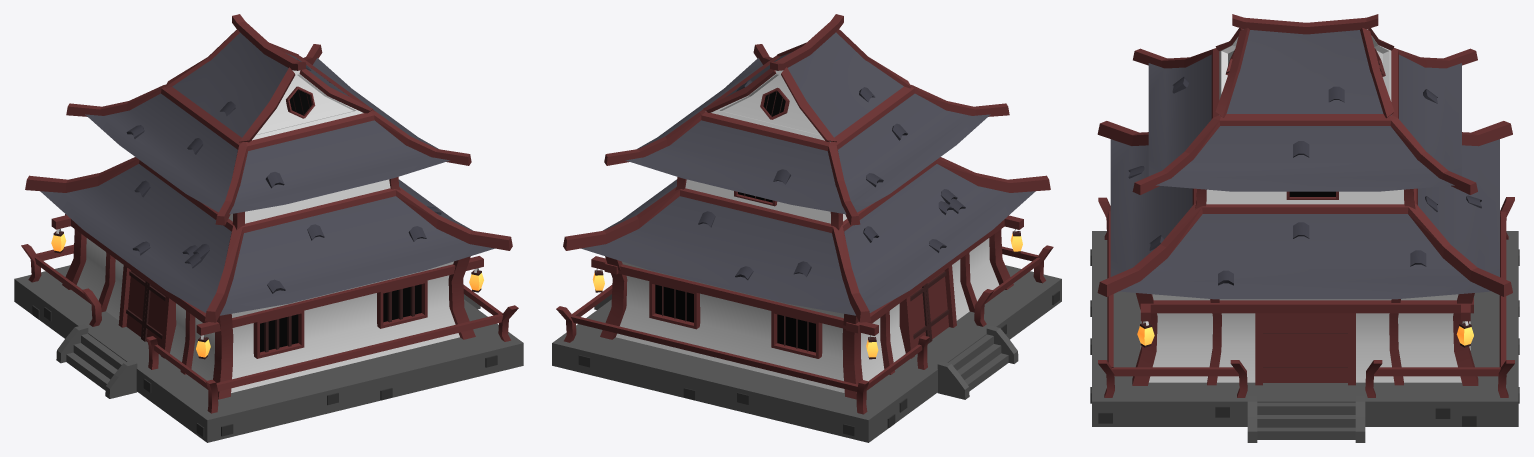
File: house_2.glb
3 views of the same model, side by side, from view 1: azimuth 30°, elevation 25°; view 2: azimuth 150°, elevation 25°; view 3: azimuth 270°, elevation 25° (orthographic). The views are drawn at different scales.
Parts seen in each view (by area): view 1: Box002; view 2: Box002; view 3: Box002.
Boxes of the visible parts, x1=… form: Box002: x1=14, y1=14, x2=523, y2=442; Box002: x1=552, y1=14, x2=1061, y2=442; Box002: x1=1090, y1=14, x2=1519, y2=442.
Size of the model in its own units: 1508 by 1149 by 1369.
5 materials, 1 textured.
